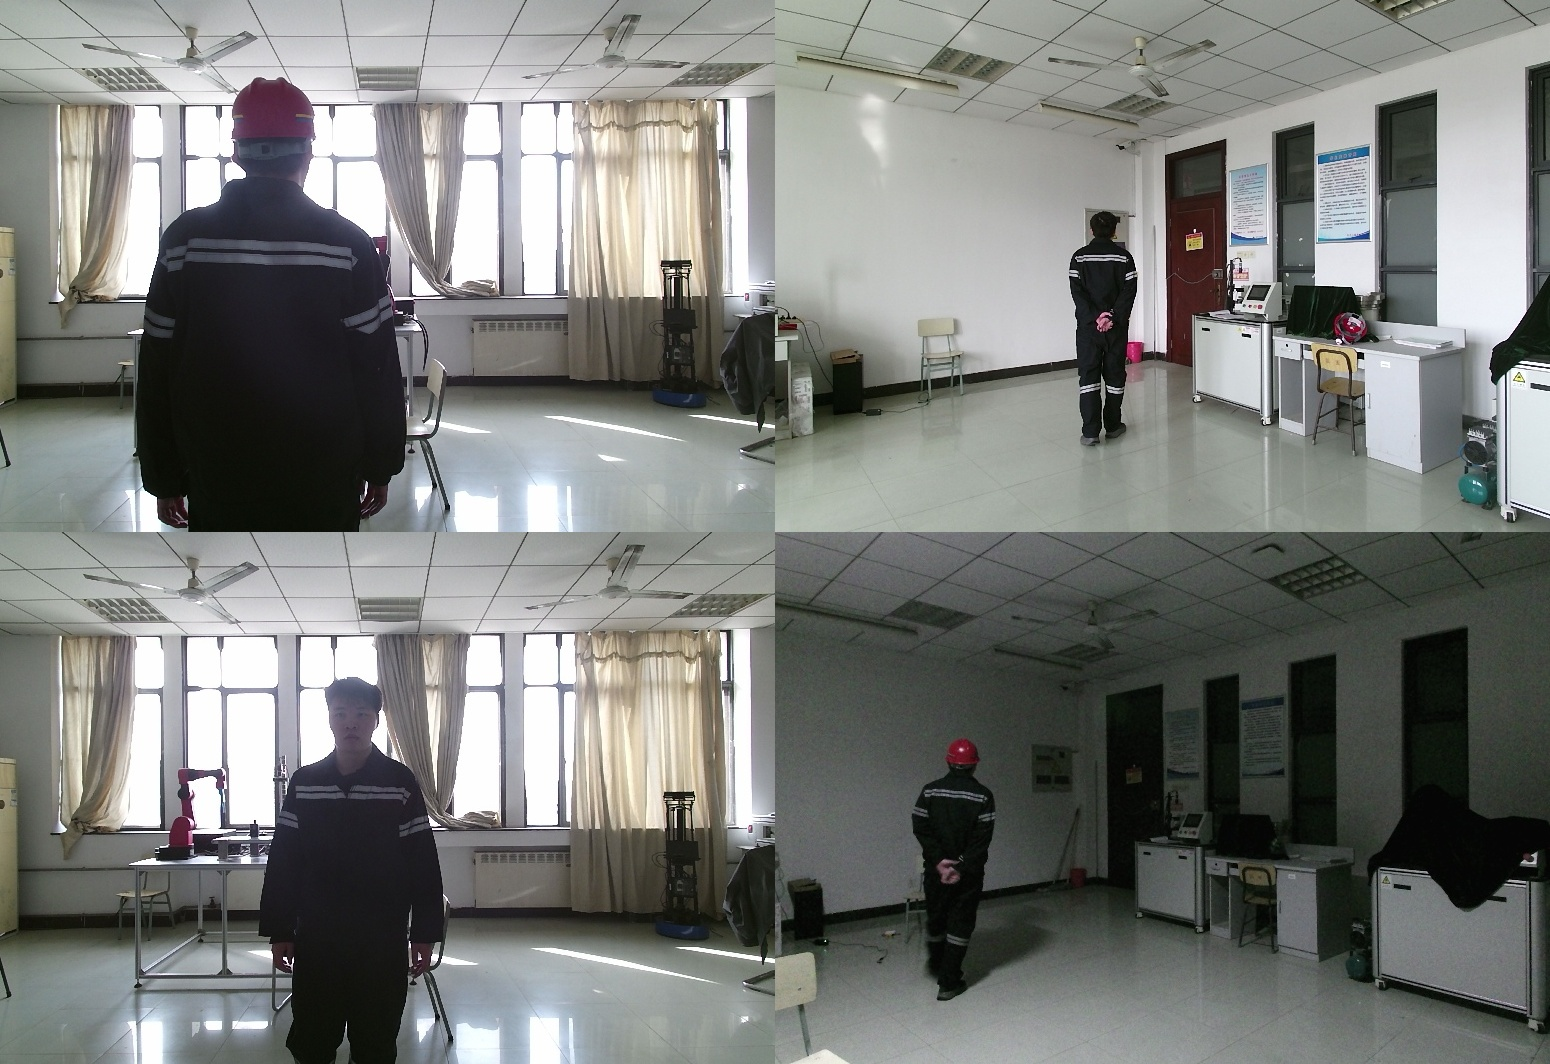person: (136, 79, 409, 532), (268, 678, 458, 1064), (860, 740, 1049, 1000), (1063, 211, 1142, 450)
